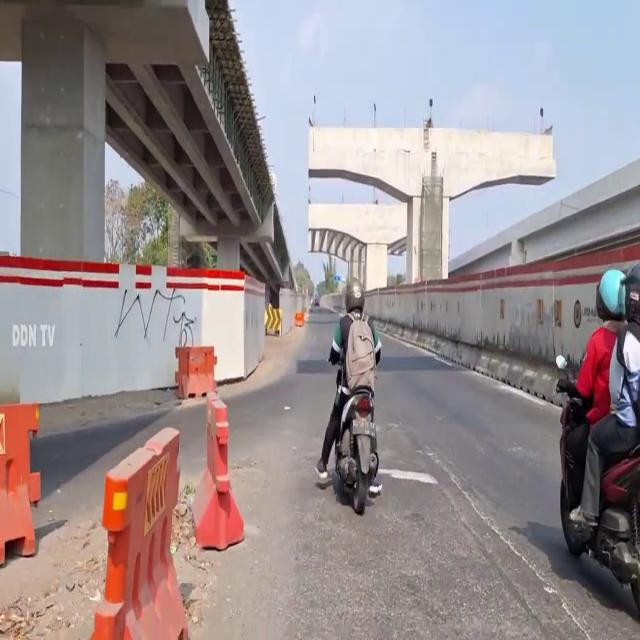WithHelmet: (569, 264, 640, 532), (559, 268, 627, 513), (314, 277, 383, 496)
